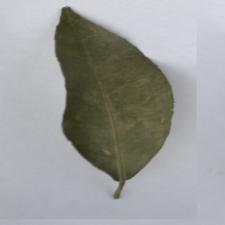Healthy: (34, 25, 182, 185)
